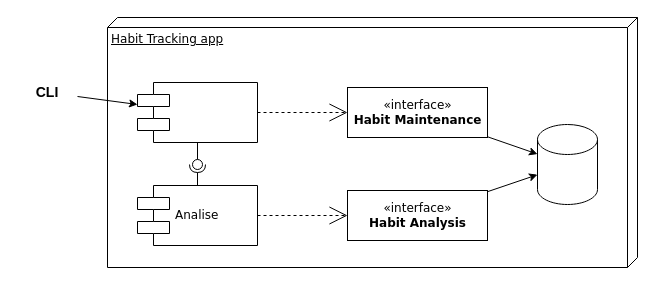
This 655x285 diagram has some shape labels left out. Here are the shapes that lost their labels. From the top down, the box of each, then its label:
(136, 82, 258, 142): Habit
(536, 124, 598, 204): SQL
